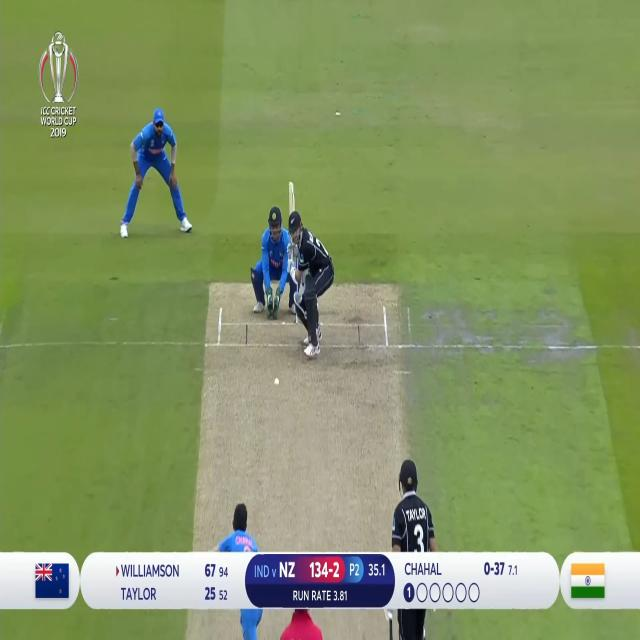ball: (272, 377, 282, 388)
